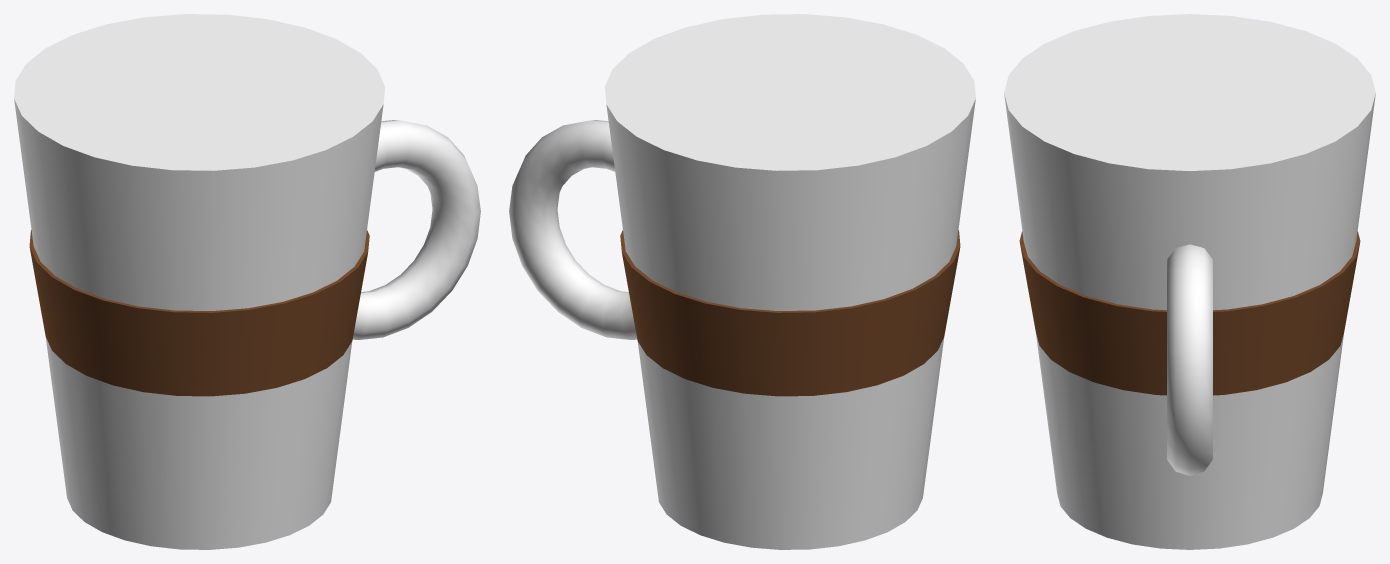
File: cup.glb
3 renders of one model, left to right at view 1: azimuth 30°, elevation 25°; view 2: azimuth 150°, elevation 25°; view 3: azimuth 270°, elevation 25°, orthographic.
Visible parts, largest first — view 1: cup; view 2: cup; view 3: cup.
Part boxes in pixels (x1=…): cup: x1=14, y1=14, x2=480, y2=549; cup: x1=509, y1=14, x2=975, y2=549; cup: x1=1004, y1=14, x2=1375, y2=549.
Bounding box in the file's own units: 1 × 0.8734 × 0.7336.
